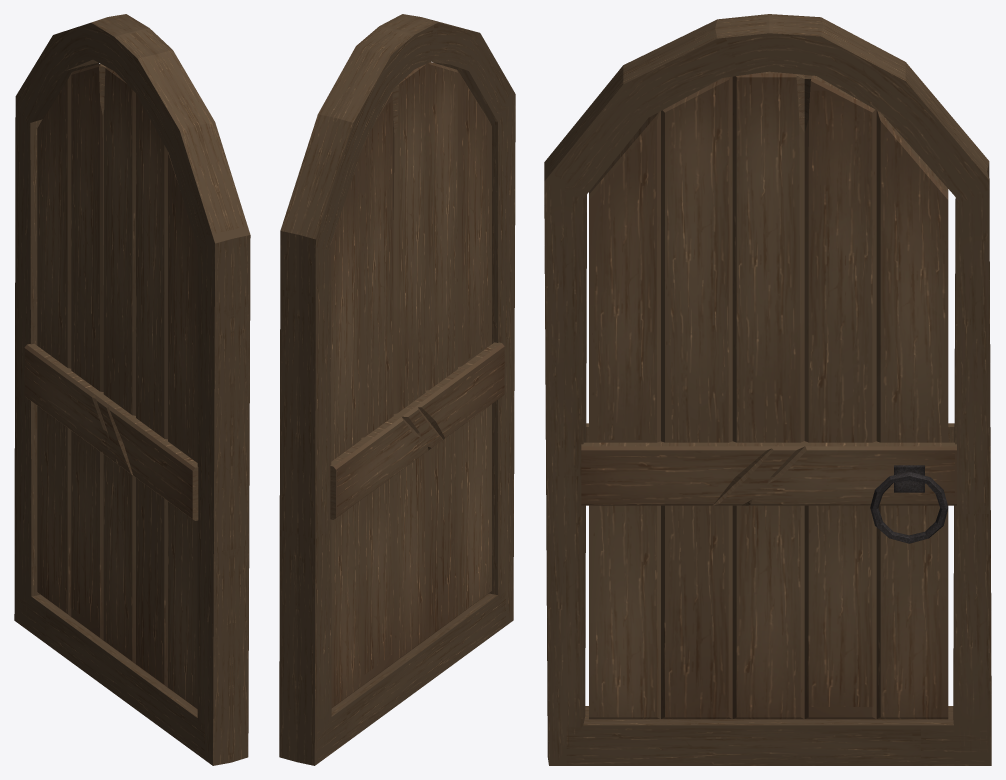
The model's file is door2.fbx.
The picture shows the model from 3 angles, left to right: view 1: azimuth 30°, elevation 25°; view 2: azimuth 150°, elevation 25°; view 3: azimuth 270°, elevation 25°; orthographic projection. The views are drawn at different scales.
Visible parts, largest first — view 1: Door, Frame; view 2: Door, Frame; view 3: Door, Frame, Handle.
Part boxes in pixels (x1,y1,x2,y2): Door: (24, 63, 198, 709); Frame: (14, 14, 250, 765); Door: (330, 62, 504, 707); Frame: (279, 14, 515, 765); Door: (581, 71, 956, 719); Frame: (544, 14, 991, 765); Handle: (870, 465, 948, 543).
Size of the model in its own units: 68.04 by 761 by 420.
